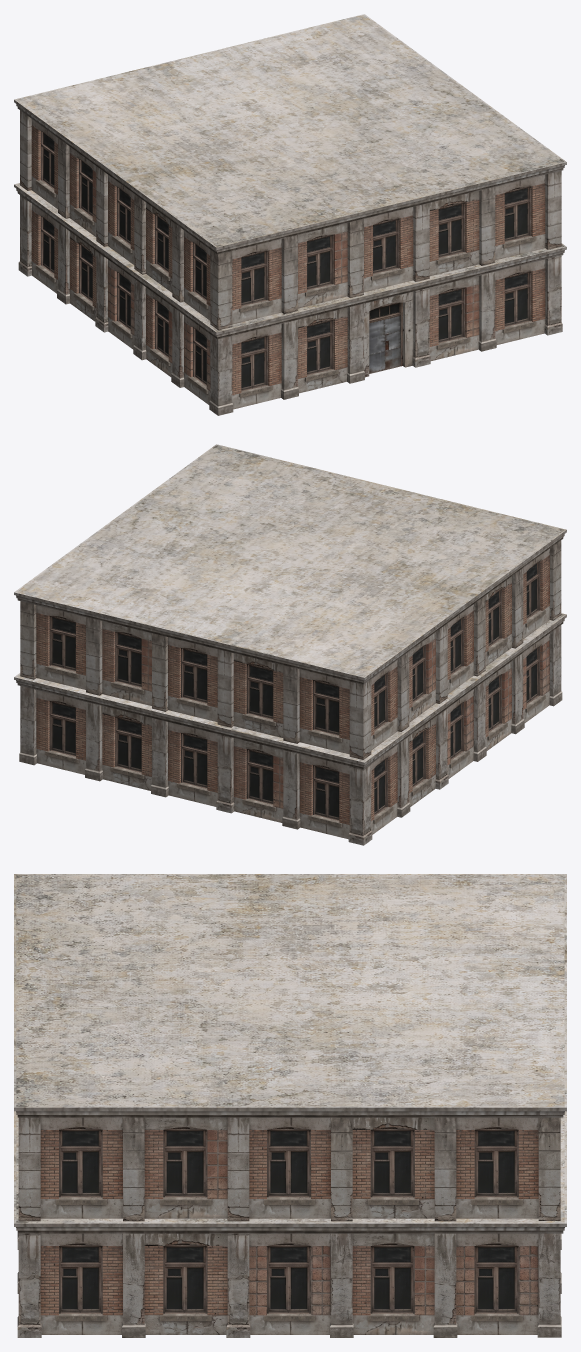
Rendered from old_brick_building__lowpoly.glb.
The picture shows the model from 3 angles, top to bottom: view 1: azimuth 30°, elevation 25°; view 2: azimuth 150°, elevation 25°; view 3: azimuth 270°, elevation 25°; orthographic projection. The views are drawn at different scales.
Parts seen in each view (by area): view 1: Cube.021, Cube.004, old building 1.001, old building 1.004, old building 1.009, old building 1.003, old building 1.005, old building 1.006, old building 1.011, old building 1.008, old building 1.010, old building 1 (+21 smaller); view 2: Cube.021, Cube.004, old building 1.033, old building 1.035, old building 1.036, old building 1.038, old building 1.031, old building 1.034, old building 1.032, old building 1.037, old building 1.039, old building 1.040 (+21 smaller); view 3: Cube.021, Cube.004, old building 1.017, old building 1.013, old building 1.019, old building 1.012, old building 1.015, old building 1.020, old building 1.007, old building 1.014, old building 1.016, old building 1.018 (+6 smaller).
Boxes of the visible parts, <box> form: Cube.021: <box>14,14,566,254</box>; Cube.004: <box>14,183,566,339</box>; old building 1.001: <box>495,259,545,344</box>; old building 1.004: <box>429,275,479,360</box>; old building 1.009: <box>495,175,545,260</box>; old building 1.003: <box>429,191,479,276</box>; old building 1.005: <box>232,324,281,409</box>; old building 1.006: <box>298,307,347,393</box>; old building 1.011: <box>298,223,347,308</box>; old building 1.008: <box>232,239,281,324</box>; old building 1.010: <box>364,207,413,292</box>; old building 1: <box>364,292,413,377</box>; Cube.021: <box>14,444,566,684</box>; Cube.004: <box>14,613,566,769</box>; old building 1.033: <box>233,738,283,822</box>; old building 1.035: <box>299,754,349,839</box>; old building 1.036: <box>233,653,283,737</box>; old building 1.038: <box>299,669,349,754</box>; old building 1.031: <box>168,722,217,806</box>; old building 1.034: <box>36,690,85,774</box>; old building 1.032: <box>102,706,151,790</box>; old building 1.037: <box>36,605,85,689</box>; old building 1.039: <box>168,637,217,721</box>; old building 1.040: <box>102,621,151,705</box>; Cube.021: <box>14,874,566,1117</box>; Cube.004: <box>14,1111,566,1233</box>; old building 1.017: <box>144,1117,227,1218</box>; old building 1.013: <box>144,1233,227,1334</box>; old building 1.019: <box>456,1117,538,1218</box>; old building 1.012: <box>40,1117,122,1218</box>; old building 1.015: <box>352,1117,434,1218</box>; old building 1.020: <box>456,1233,538,1334</box>; old building 1.007: <box>40,1233,122,1334</box>; old building 1.014: <box>352,1233,434,1334</box>; old building 1.016: <box>249,1117,330,1218</box>; old building 1.018: <box>249,1233,330,1334</box>.
Size of the model in its own units: 15.17 by 7.03 by 15.17.
Materials: 2 (2 with a texture image).
